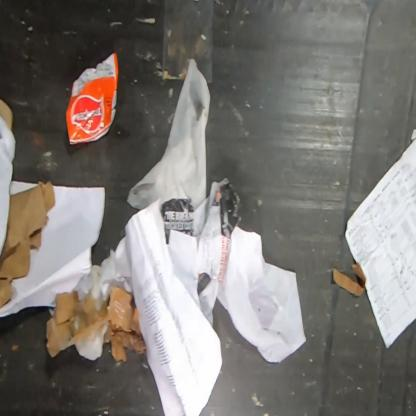cardboard: (44, 285, 148, 362), (0, 181, 56, 310)
rigid_plastic: (161, 0, 216, 86)
soft_plastic: (66, 53, 118, 144), (0, 114, 16, 258)
